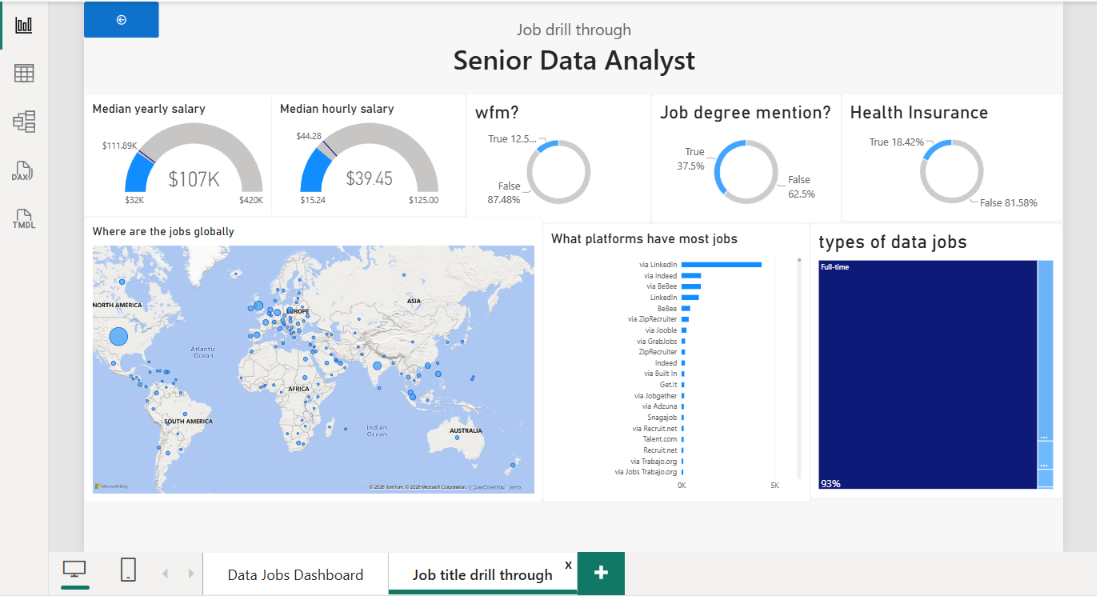

This screenshot's page, from the dashboard's own definition file:
{"tool":"powerbi","page":{"name":"Job title drill through","canvas":[1920,1080],"ordinal":1},"visuals":[{"type":"cardVisual","fields":{"Data":["Min(job_postings_flat.job_title_short)1"]},"box":[532.5,0,860,180],"z":0},{"type":"actionButton","box":[0,0,147.1,71.2],"z":1000},{"type":"gauge","title":"Median yearly salary","fields":{"MaxValue":["Max(job_postings_flat.salary_year_avg)1"],"MinValue":["Min(job_postings_flat.salary_year_avg)"],"TargetValue":["Avg(job_postings_flat.salary_year_avg)2"],"Y":["Median(job_postings_flat.salary_year_avg)"]},"box":[0,180,384.5,242.1],"z":2000},{"type":"gauge","title":"Median hourly salary","fields":{"MaxValue":["Max(job_postings_flat.salary_hour_avg)2"],"MinValue":["Min(job_postings_flat.salary_hour_avg)1"],"TargetValue":["Avg(job_postings_flat.salary_hour_avg)3"],"Y":["Median(job_postings_flat.salary_hour_avg)"]},"box":[367.5,180,382.1,242.1],"z":3000},{"type":"donutChart","title":"wfm?","fields":{"Category":["job_postings_flat.job_work_from_home"],"Y":["CountNonNull(job_postings_flat.job_work_from_home)"]},"box":[750,180,363.1,253.9],"z":4000},{"type":"donutChart","title":"Job degree mention?","fields":{"Category":["job_postings_flat.job_no_degree_mention"],"Y":["CountNonNull(job_postings_flat.job_work_from_home)"]},"box":[1112.5,180,372.6,253.9],"z":5000},{"type":"donutChart","title":"Health Insurance","fields":{"Category":["job_postings_flat.job_health_insurance"],"Y":["CountNonNull(job_postings_flat.job_work_from_home)"]},"box":[1485,180,434.3,251.6],"z":6000},{"type":"map","title":"Where are the jobs globally","fields":{"Category":["job_postings_flat.job_country"],"Size":["CountNonNull(job_postings_flat.job_title_short)"]},"box":[0,422.5,900,560],"z":6001},{"type":"treemap","title":"types of data jobs","fields":{"Group":["job_postings_flat.job_schedule_type"],"Values":["CountNonNull(job_postings_flat.job_schedule_type)"]},"box":[1425,435,495,540],"z":6002},{"type":"barChart","title":"What platforms have most jobs","fields":{"Category":["job_postings_flat.job_via"],"Y":["CountNonNull(job_postings_flat.job_via)"]},"box":[900,435,525,547.5],"z":6003}]}

Visuals, with their boxes on the page's 1920x1080 design canvas (x1, y1, x2, y2). These are canvas units, not pixel positions in the 1097x596 screenshot, which may show the page scaled, cropped or inside an application window:
cardVisual - Min(job_postings_flat.job_title_short)1: bbox(532, 0, 1392, 180)
actionButton: bbox(0, 0, 147, 71)
"Median yearly salary" gauge: bbox(0, 180, 384, 422)
"Median hourly salary" gauge: bbox(368, 180, 750, 422)
"wfm?" donutChart: bbox(750, 180, 1113, 434)
"Job degree mention?" donutChart: bbox(1112, 180, 1485, 434)
"Health Insurance" donutChart: bbox(1485, 180, 1919, 432)
"Where are the jobs globally" map: bbox(0, 422, 900, 982)
"types of data jobs" treemap: bbox(1425, 435, 1920, 975)
"What platforms have most jobs" barChart: bbox(900, 435, 1425, 982)
